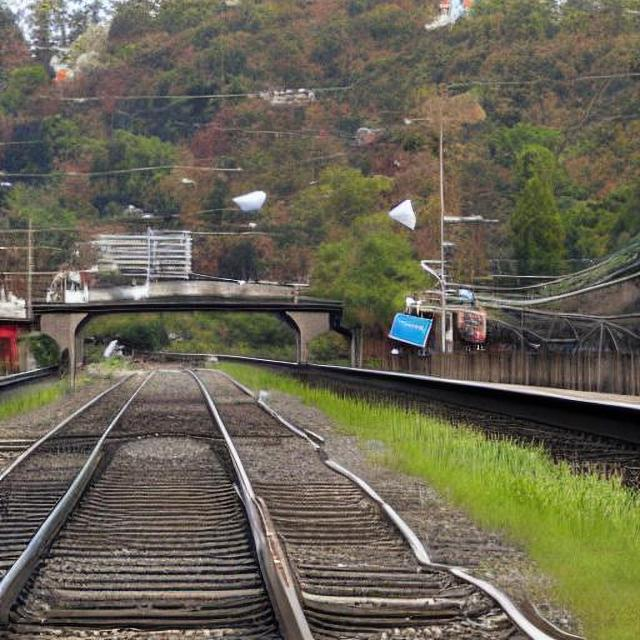plastic bag: (364, 189, 426, 247), (231, 188, 281, 234)
